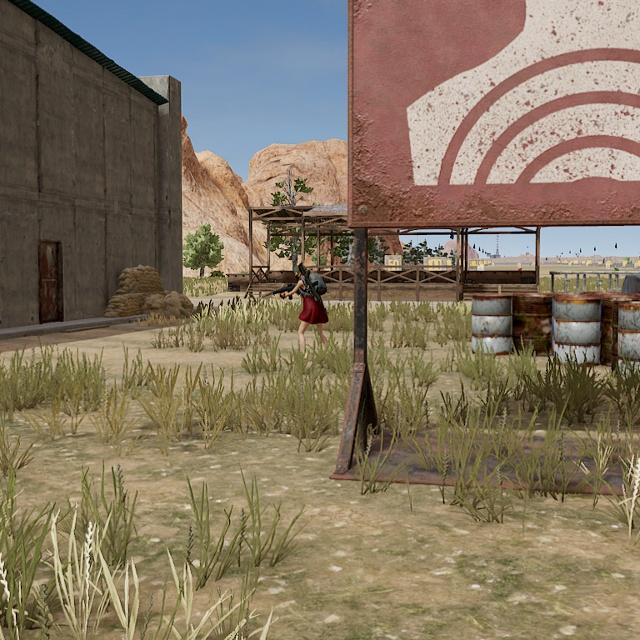head: (291, 264, 306, 282)
people: (284, 264, 333, 359)
